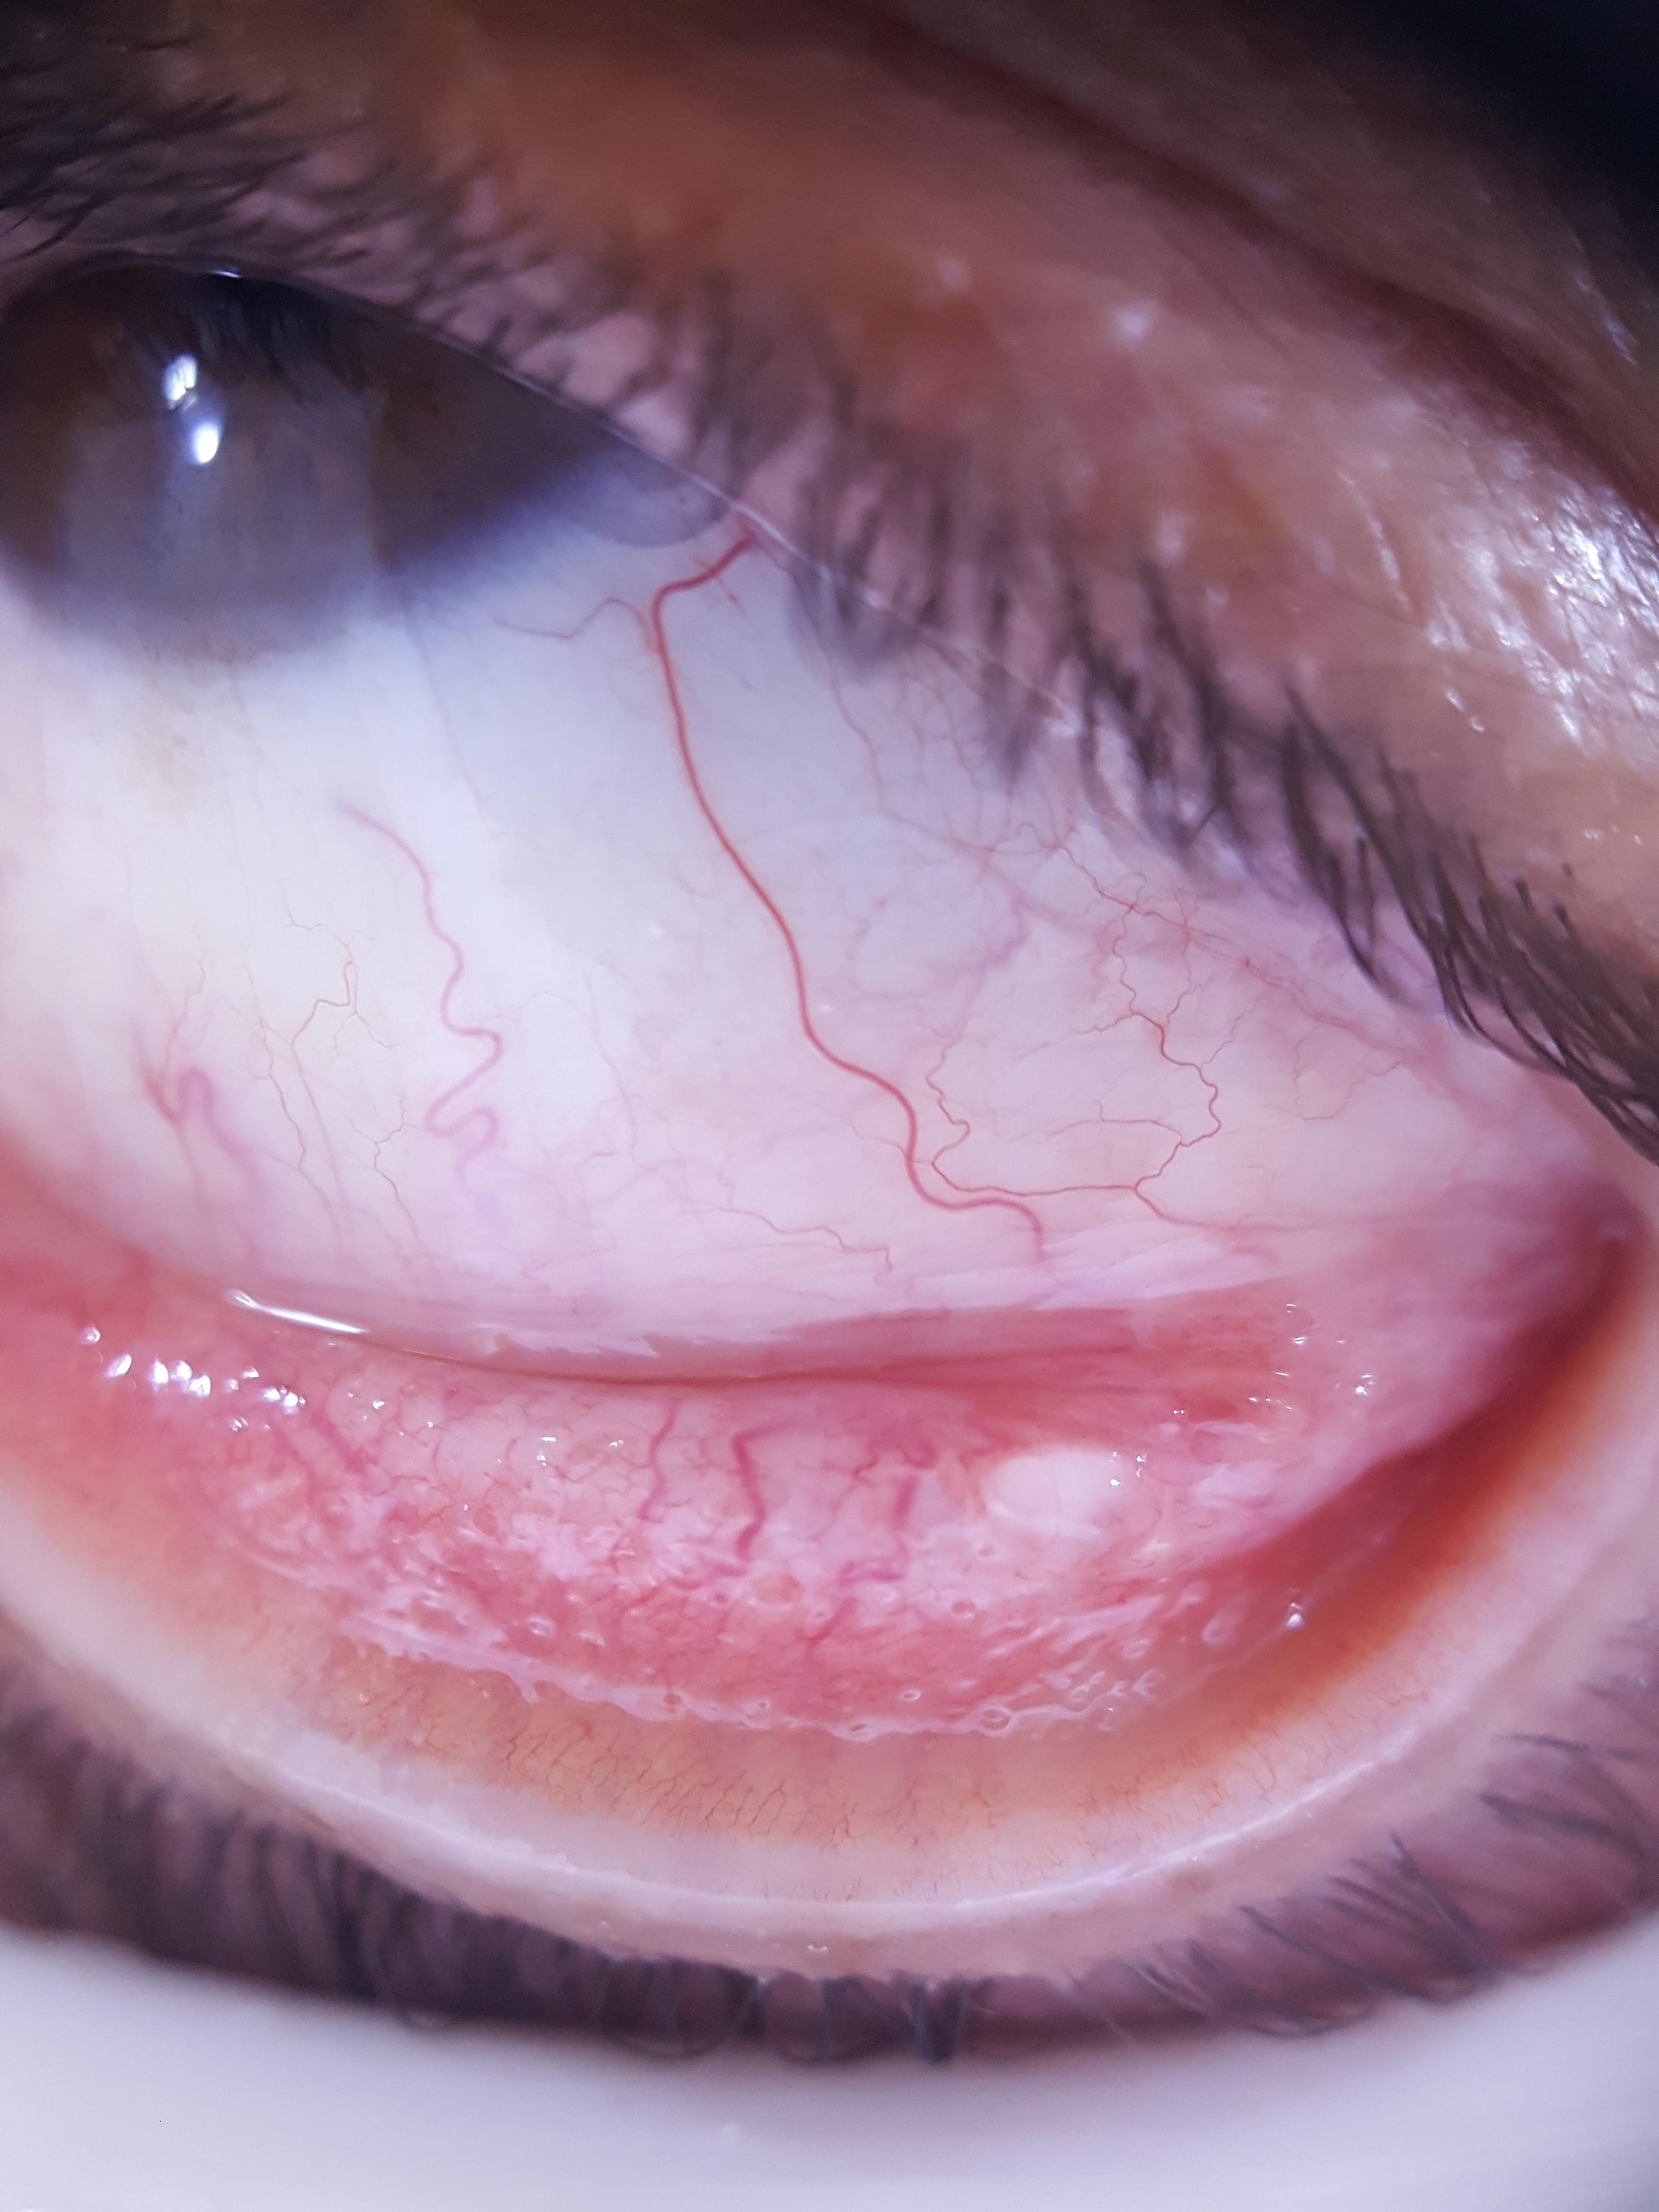forniceal: (0, 1169, 1568, 1730)
forniceal_palpebral: (3, 1163, 1635, 1857)
palpebral: (3, 1224, 1629, 1846)
